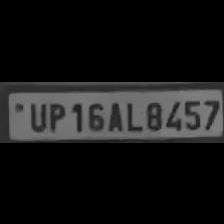1: (66, 98, 86, 132)
4: (162, 96, 182, 130)
5: (180, 95, 200, 129)
6: (84, 98, 106, 132)
7: (200, 95, 220, 129)
8: (142, 98, 162, 130)
A: (105, 97, 124, 131)
L: (122, 97, 140, 130)
P: (46, 99, 66, 131)
U: (24, 98, 48, 132)
